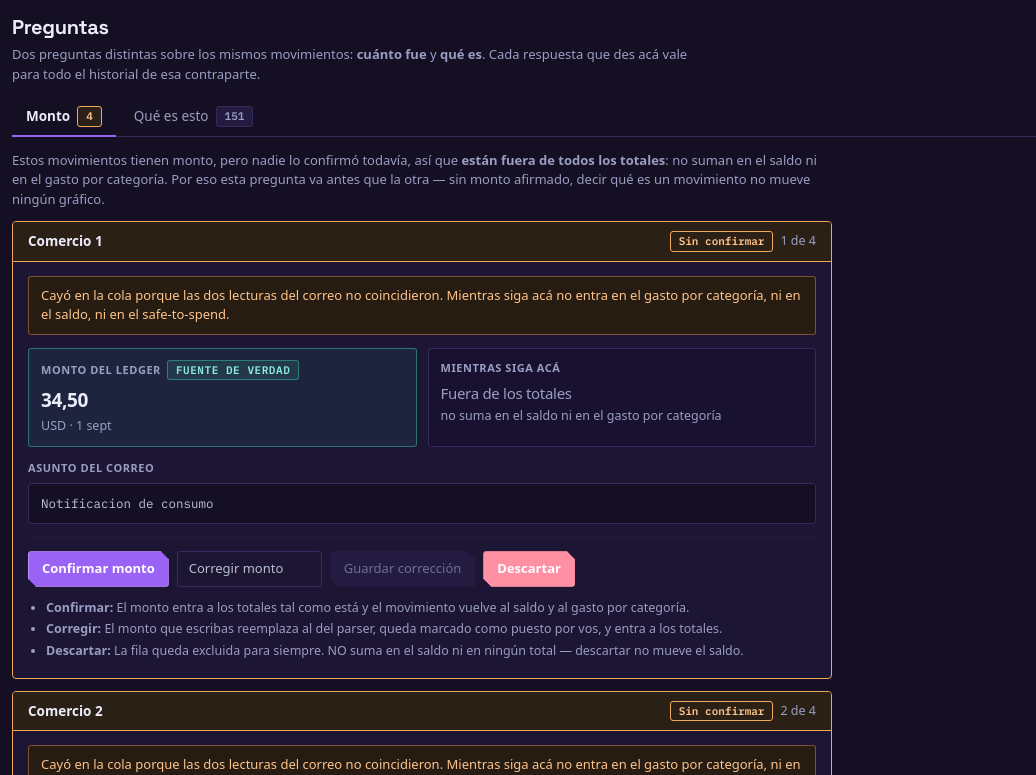
Test case: pestaña 'Monto' — las 4 filas, sobre las rutas que ya existen › R12: descartar dice que el saldo no se movió
Click the button with test id "review-descartar" at coordinates (529, 569), box [483,551,575,587]
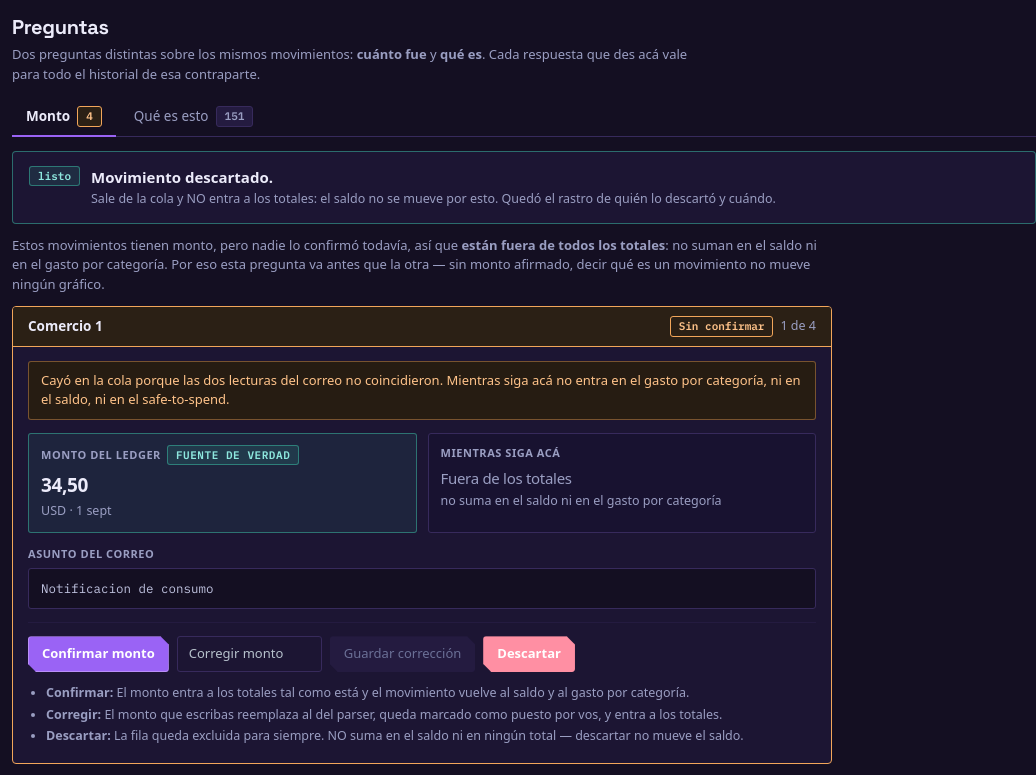
Expected: the element with test id "efecto" shows "el saldo no se mueve", [91,190,776,207]
